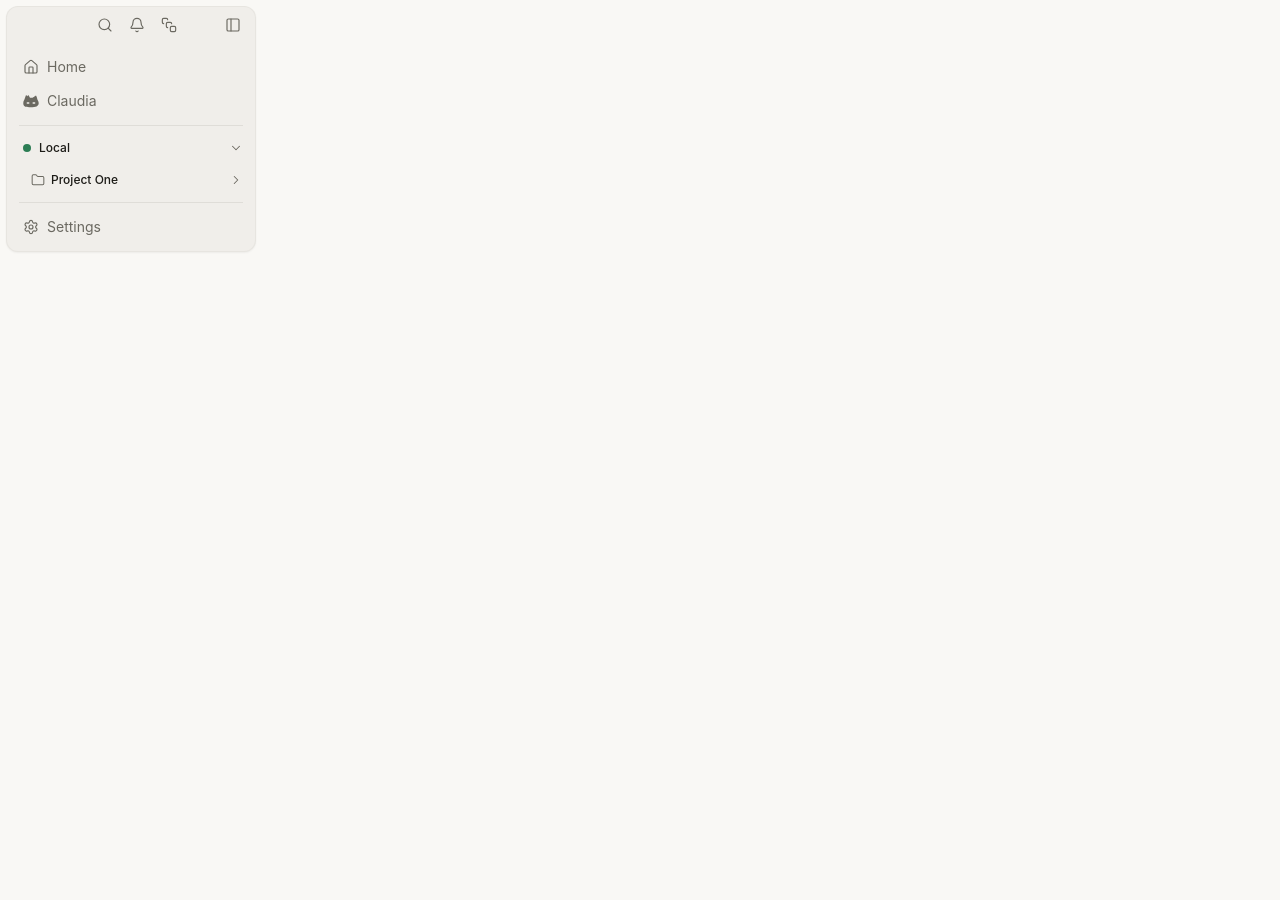
it: Sidebar › shows "No results" when search returns empty
Step 1. Click the button titled "Search messages" → click(105, 25), box x1=91 y1=11 x2=119 y2=39
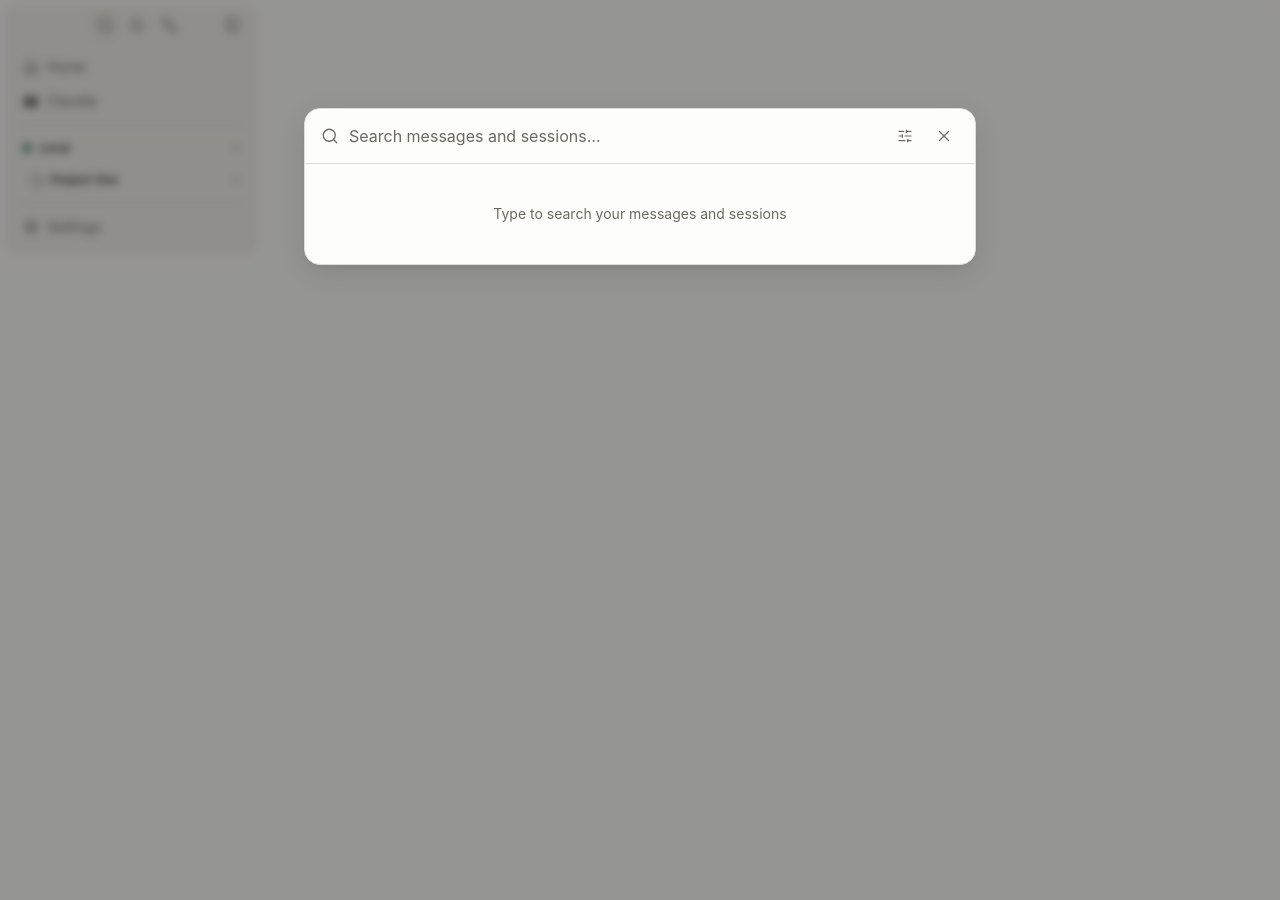
Step 2. Type "no match" into the field with placeholder "Search messages and sessions…" → (615, 136), box x1=349 y1=124 x2=881 y2=148
Wait 350 ms
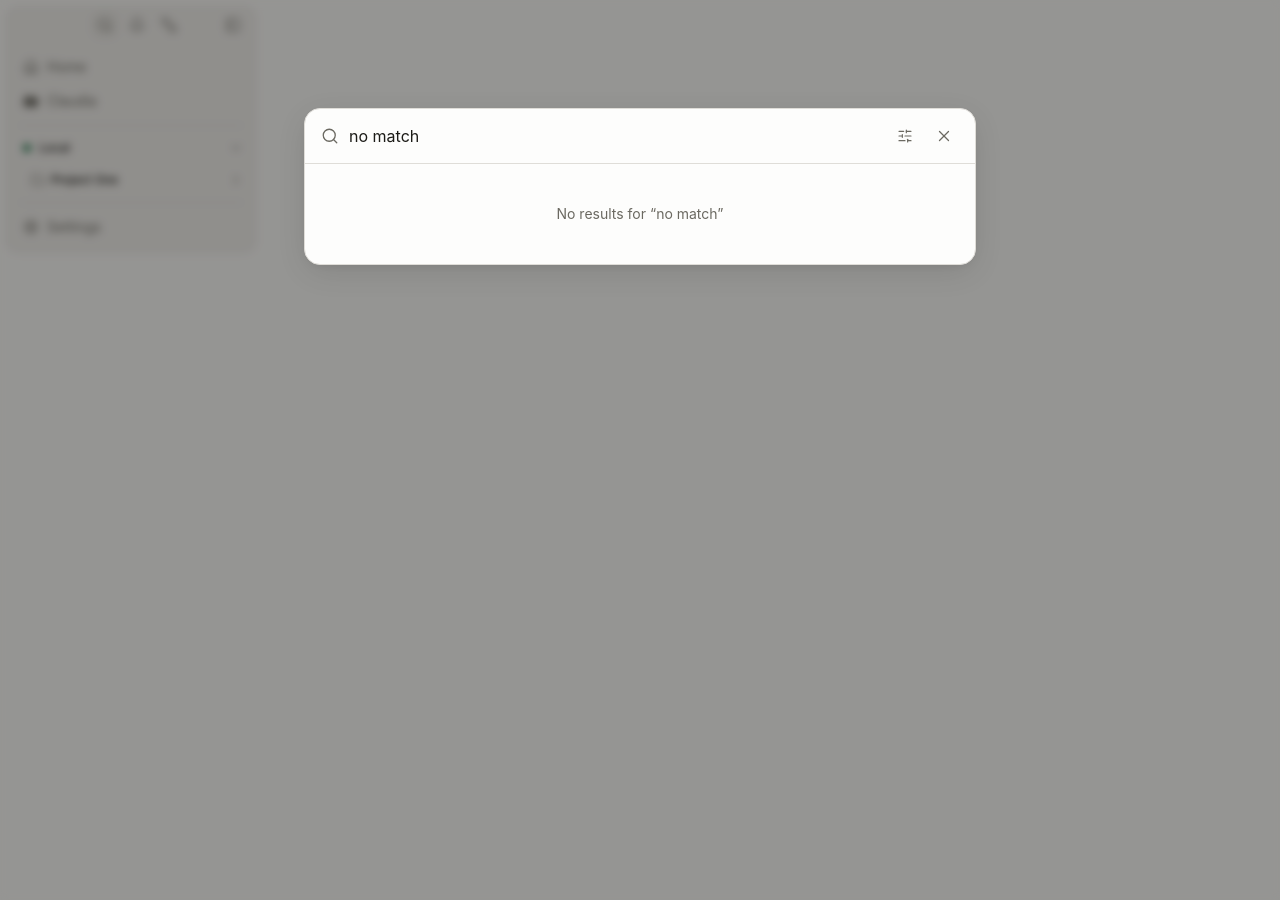
expect the text "No results" is shown: met, box x1=556 y1=205 x2=656 y2=222
